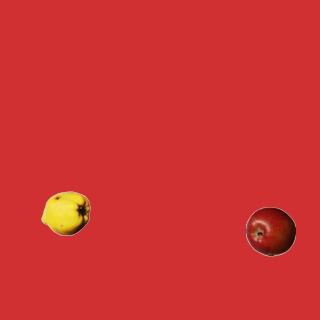Apple Braeburn: (245, 206, 295, 256)
Quince: (40, 188, 90, 238)
